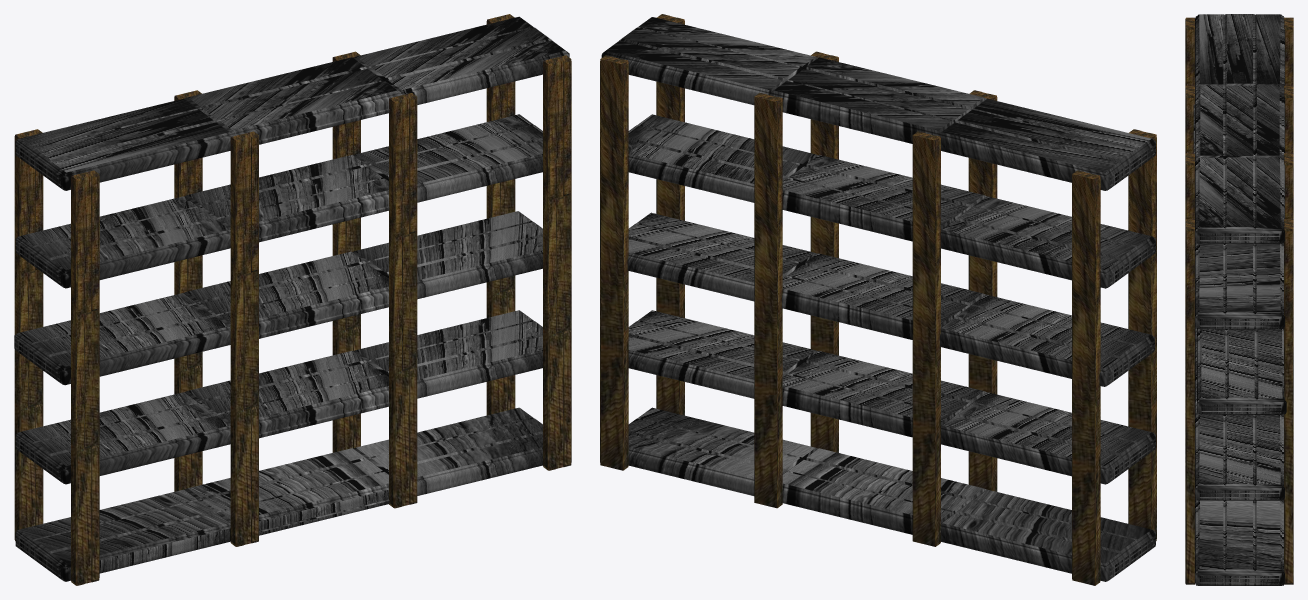
Rendered from Pantry.fbx.
3 renders of one model, left to right at view 1: azimuth 30°, elevation 25°; view 2: azimuth 150°, elevation 25°; view 3: azimuth 270°, elevation 25°, orthographic. The views are drawn at different scales.
Parts seen in each view (by area): view 1: Pantry; view 2: Pantry; view 3: Pantry.
Boxes of the visible parts, bbox=[...] form: Pantry: bbox=[14, 14, 571, 585]; Pantry: bbox=[600, 14, 1156, 585]; Pantry: bbox=[1185, 14, 1293, 585].
Size of the model in its own units: 5.73 by 4.4 by 1.21.
2 materials, 2 textured.
